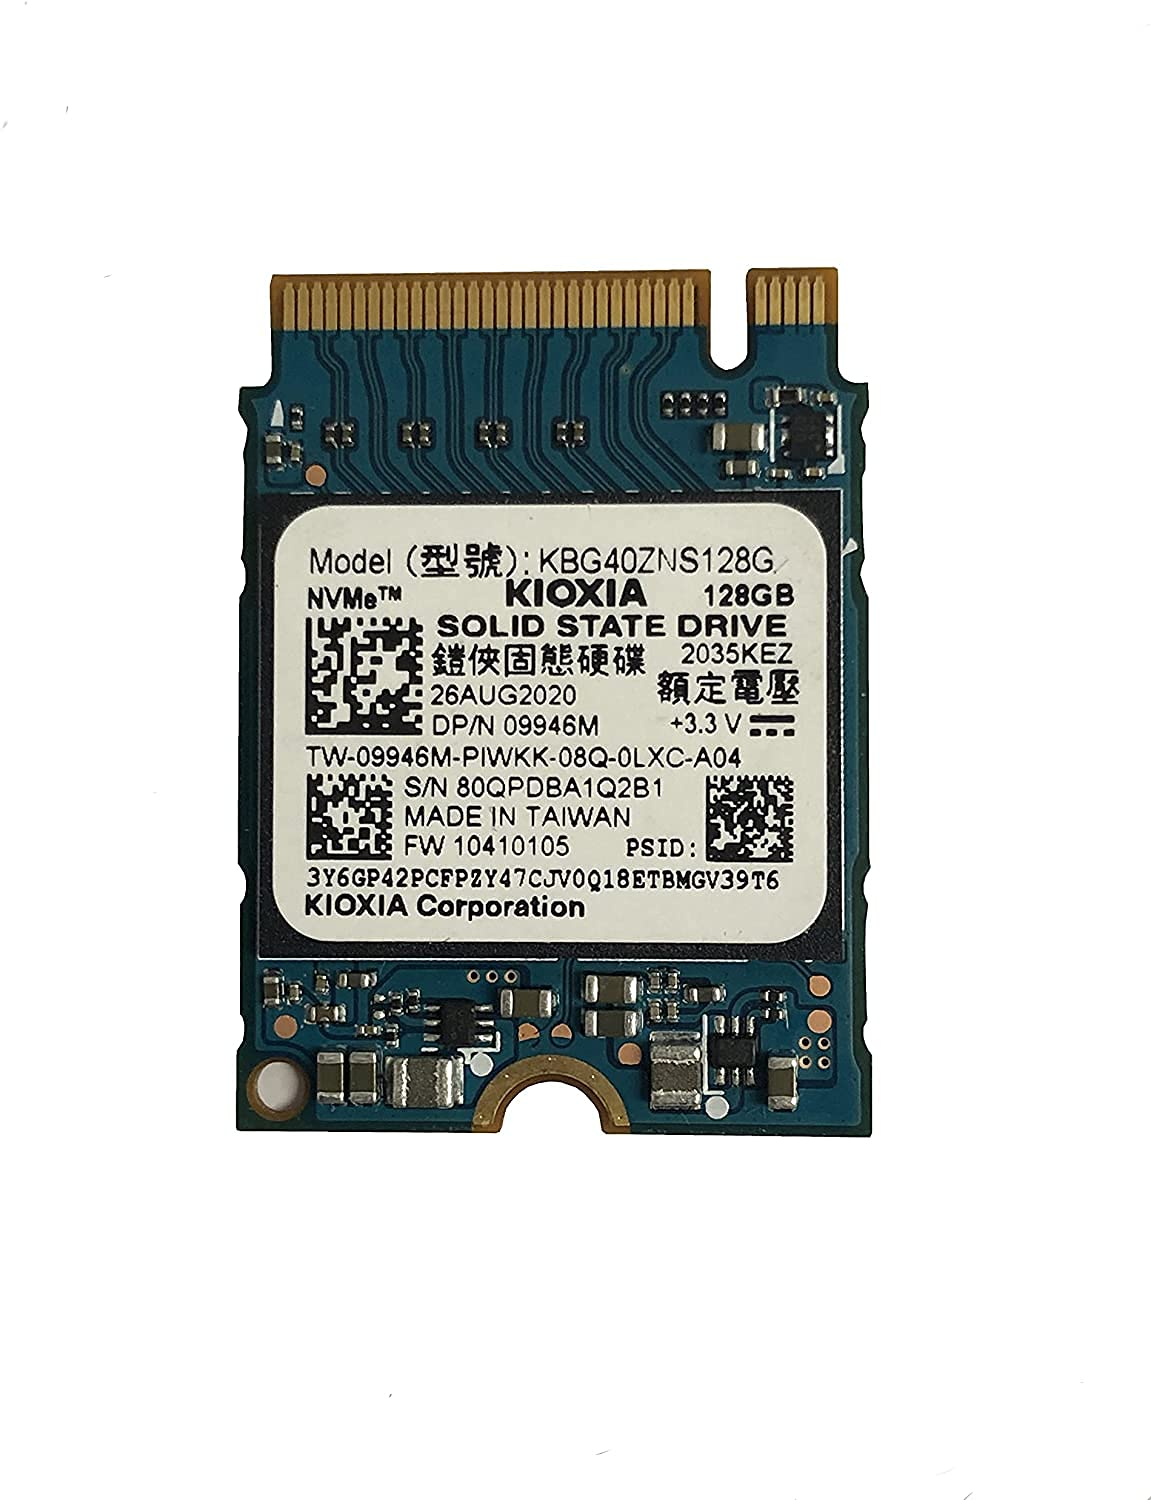ssd2230: (219, 268, 883, 1156)
